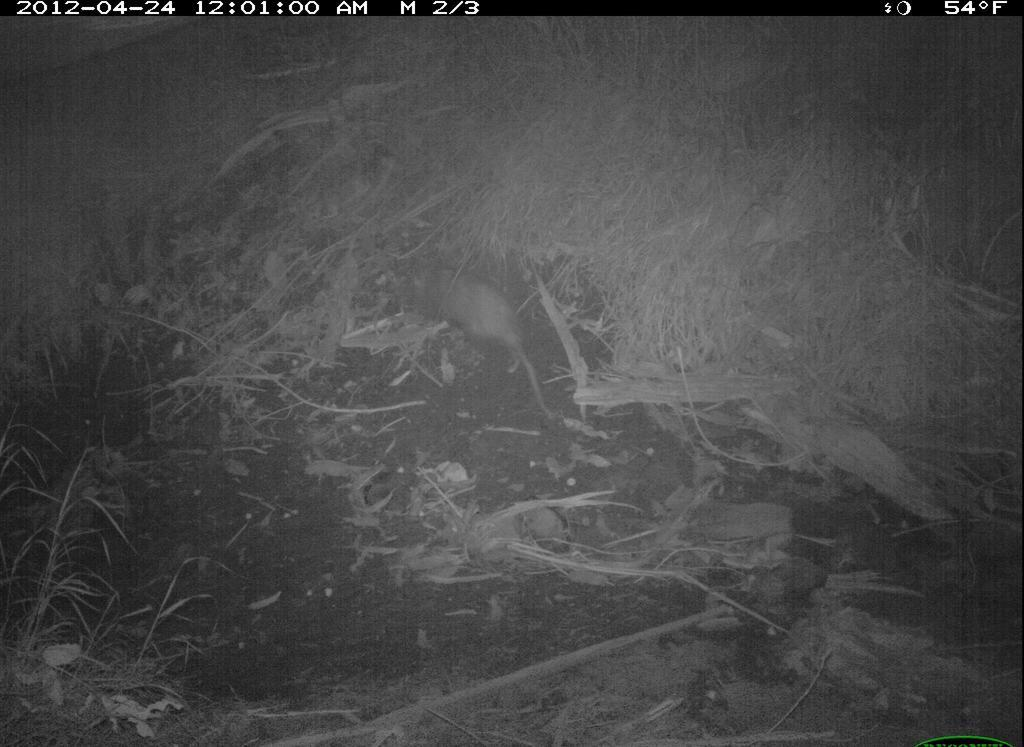opossum: (414, 257, 585, 433)
